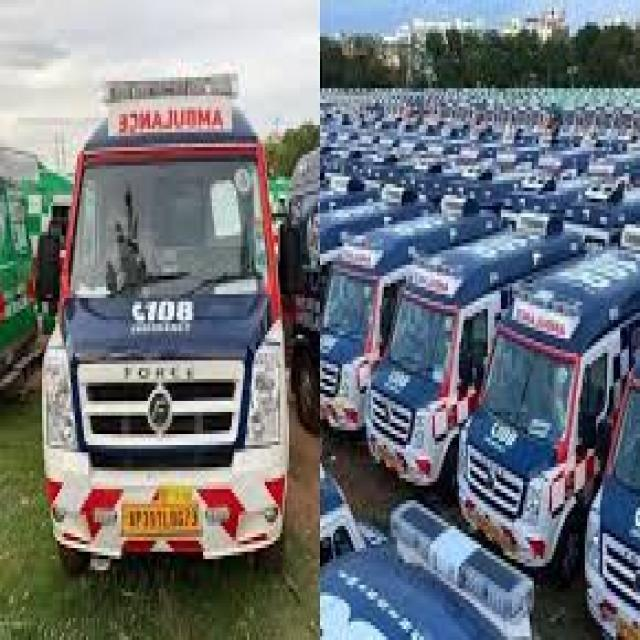ambulance: (40, 73, 287, 572), (465, 308, 591, 570), (368, 274, 466, 484), (304, 253, 381, 447), (61, 83, 255, 153)
